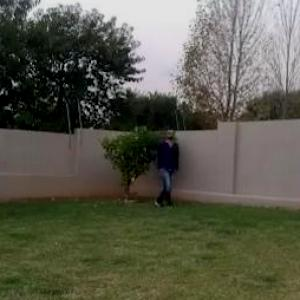follow: (155, 126, 176, 212)
